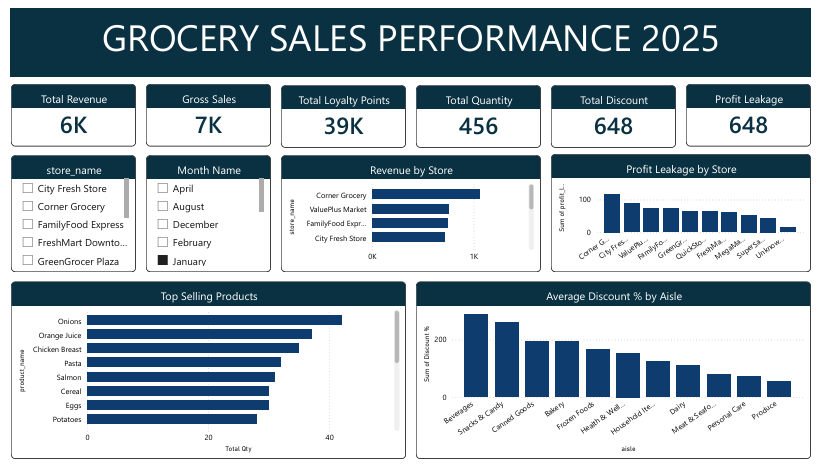

This screenshot's page, from the dashboard's own definition file:
{"tool":"powerbi","page":{"name":"Page 1","canvas":[1280,720],"ordinal":0},"visuals":[{"type":"card","title":"Total Revenue","fields":{"Values":["sales.Total Revenue"]},"box":[0,120.9,200,100],"z":0},{"type":"card","title":"Gross Sales","fields":{"Values":["sales.Gross Sales"]},"box":[216,120.4,200,100],"z":1000},{"type":"card","title":"Total Discount","fields":{"Values":["sales.Total Discount"]},"box":[864,121.3,200,100],"z":2000},{"type":"card","title":"Profit Leakage ","fields":{"Values":["sales.Profit Leakage M"]},"box":[1080,120,200,100],"z":3000},{"type":"card","title":"Total Quantity","fields":{"Values":["sales.Total Qty"]},"box":[648,121.8,200,100],"z":4000},{"type":"card","title":"Total Loyalty Points","fields":{"Values":["Sum(sales.loyalty_points)"]},"box":[432,122.2,200,100],"z":5000},{"type":"slicer","title":"store_name","fields":{"Values":["sales.store_name"]},"box":[0,234.4,200,186.7],"z":6000},{"type":"slicer","title":"Month Name","fields":{"Values":["sales.Month Name"]},"box":[215.6,234.4,200,186.7],"z":7000},{"type":"clusteredBarChart","title":"Revenue by Store","fields":{"Category":["sales.store_name"],"Y":["sales.Total Revenue"]},"box":[432.2,234.4,415.6,186.7],"z":8000},{"type":"clusteredColumnChart","title":"Average Discount % by Aisle","fields":{"Category":["sales.aisle"],"Y":["Sum(sales.Discount %)"]},"box":[647.8,435.6,632.2,284.4],"z":9000},{"type":"barChart","title":"Top Selling Products","fields":{"Category":["sales.product_name"],"Y":["sales.Total Qty"]},"box":[0,435.6,632.2,284.4],"z":10000},{"type":"clusteredColumnChart","title":"Profit Leakage by Store","fields":{"Category":["sales.store_name"],"Y":["Sum(sales.profit_leakage)"]},"box":[864.4,232.2,415.6,188.9],"z":11000},{"type":"shape","title":"GROCERY SALES PERFORMANCE 2025","box":[0,0,1280,109.5],"z":12000},{"type":"textbox","box":[0,0,1280,120],"z":14000}]}

Visuals, with their boxes in screenshot pixels (x1, y1, x2, y2), scaled from the page's 1280x720 canvas onto the 825x469 screenshot:
"Total Revenue" card: 0 79 129 144
"Gross Sales" card: 139 78 268 144
"Total Discount" card: 557 79 686 144
"Profit Leakage " card: 696 78 824 143
"Total Quantity" card: 418 79 547 144
"Total Loyalty Points" card: 278 80 407 145
"store_name" slicer: 0 153 129 274
"Month Name" slicer: 139 153 268 274
"Revenue by Store" clusteredBarChart: 279 153 546 274
"Average Discount % by Aisle" clusteredColumnChart: 418 284 824 468
"Top Selling Products" barChart: 0 284 407 468
"Profit Leakage by Store" clusteredColumnChart: 557 151 824 274
"GROCERY SALES PERFORMANCE 2025" shape: 0 0 824 71
textbox: 0 0 824 78
